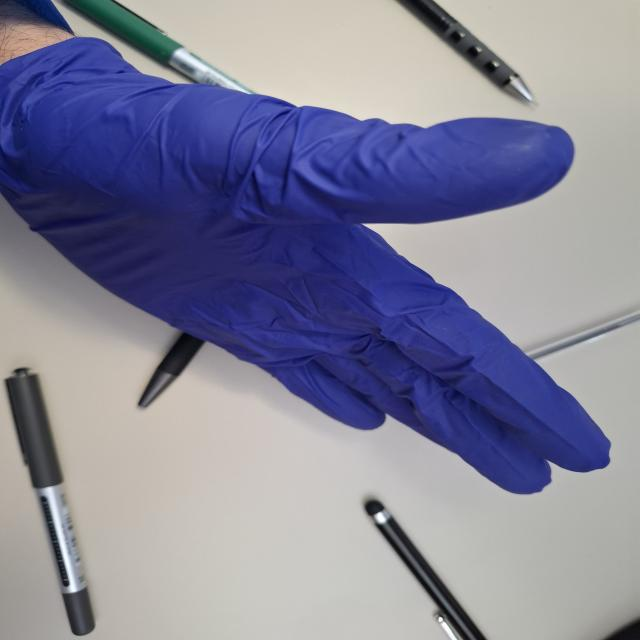glove_on: (0, 34, 615, 499)
